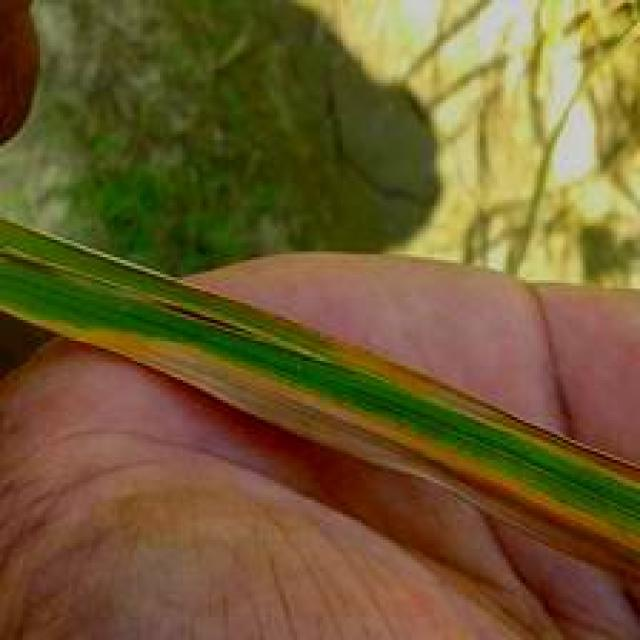Bacterial_Leaf_Blight: (40, 209, 574, 537)
